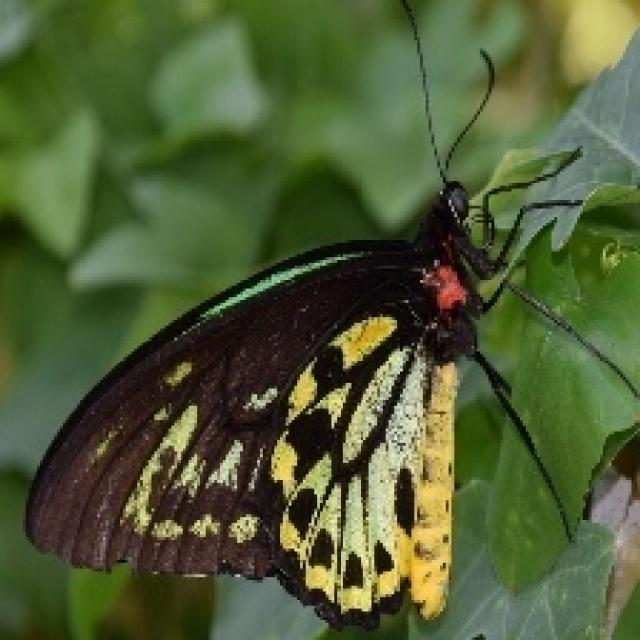butterfly: (20, 0, 637, 631)
